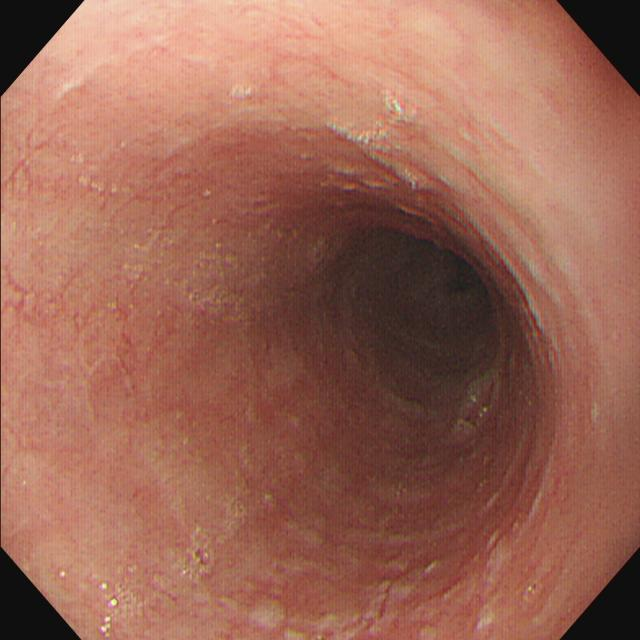E: (343, 225, 495, 404)
J: (372, 520, 509, 633), (228, 589, 342, 640)
T: (321, 90, 422, 189), (175, 493, 251, 580), (96, 562, 162, 640)
